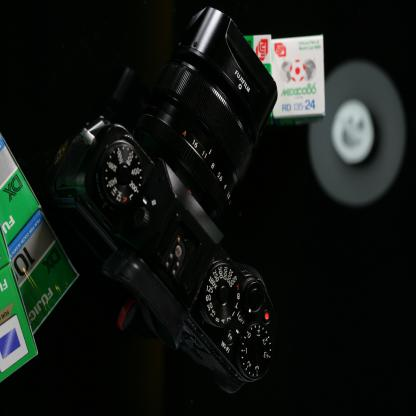Camera: (50, 1, 297, 416)
